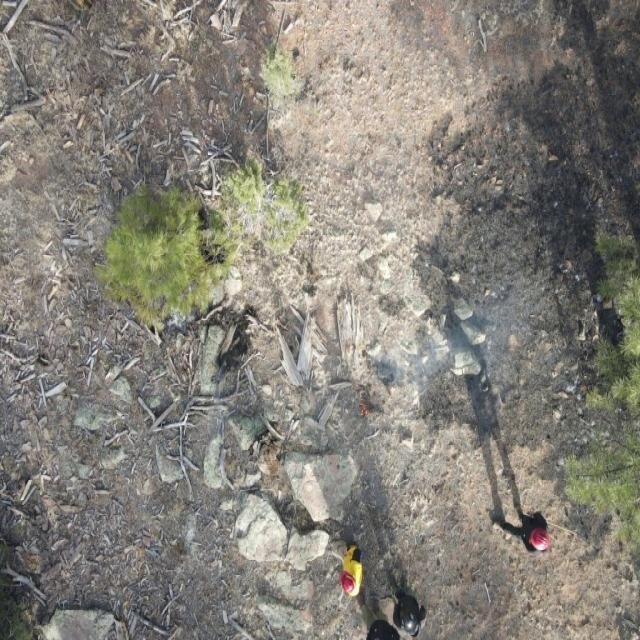fire: (350, 380, 372, 422), (362, 352, 378, 378)
smoke: (377, 308, 524, 392)
